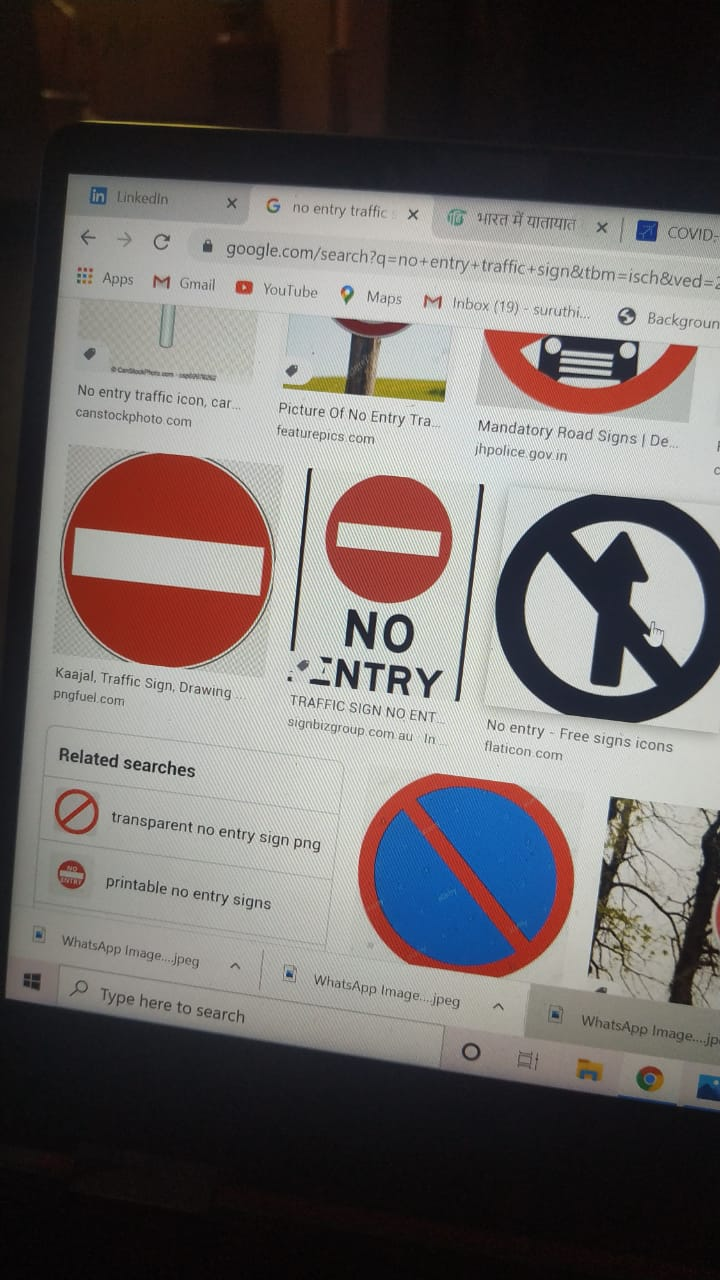NO ENTRY: (48, 444, 285, 698), (304, 438, 482, 635)
